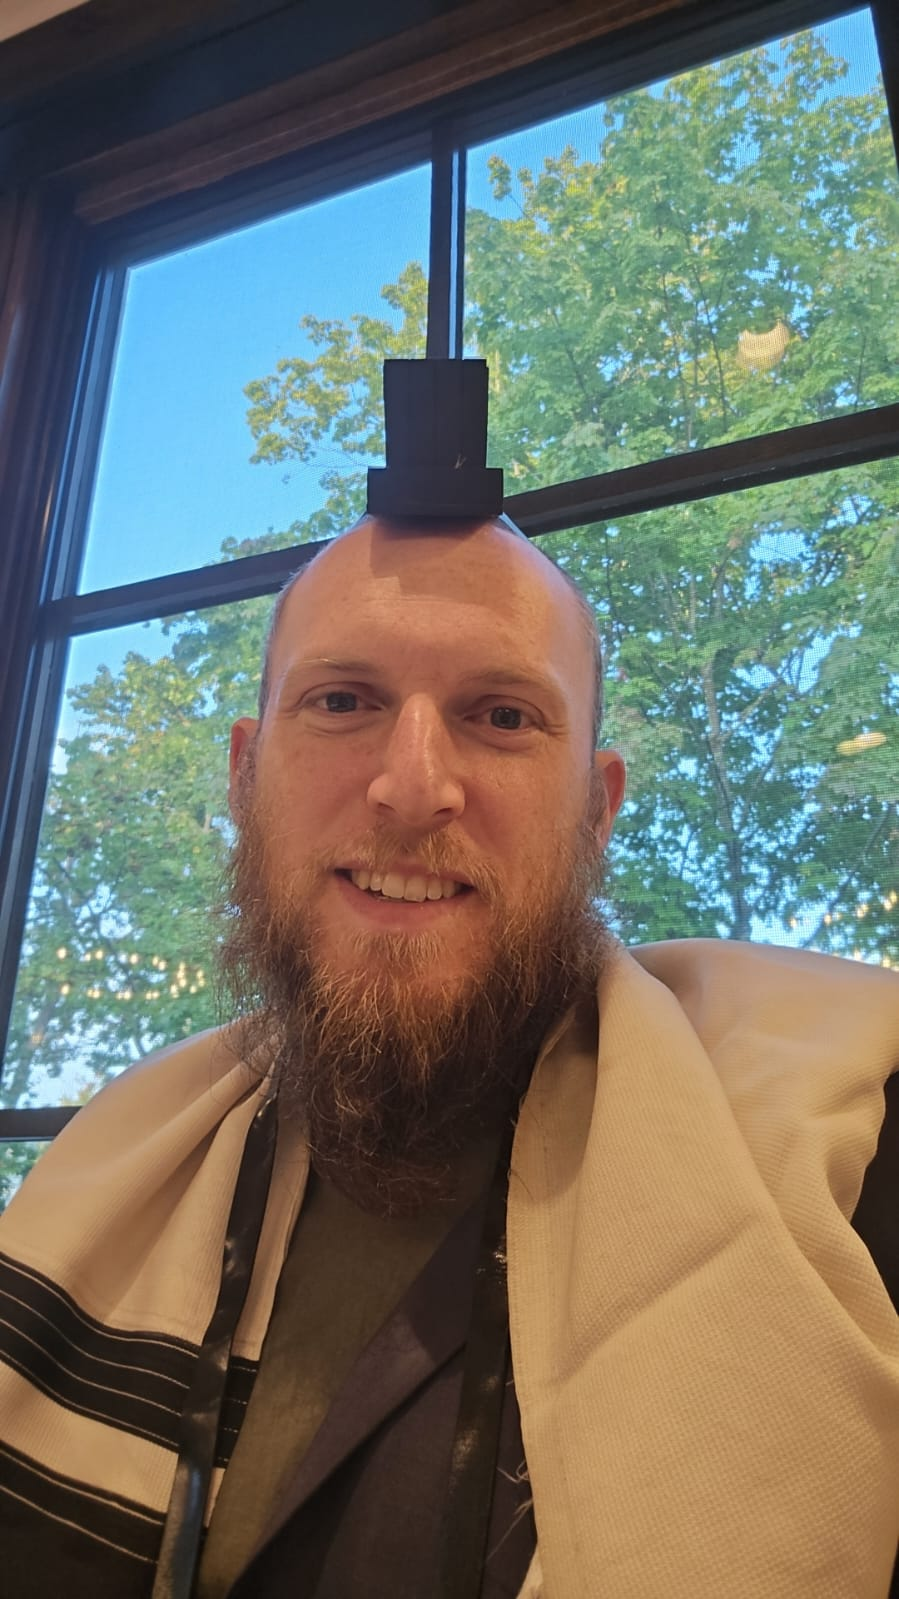tefillin: (366, 358, 503, 521)
